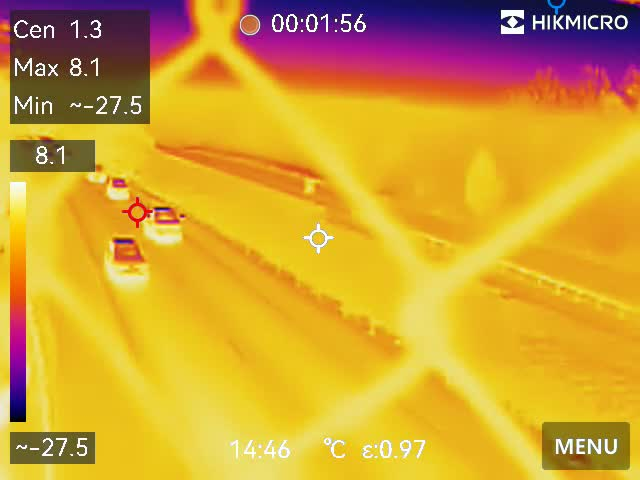lightTruck: (136, 206, 187, 239)
vehicle: (102, 228, 150, 284), (106, 170, 134, 208)
